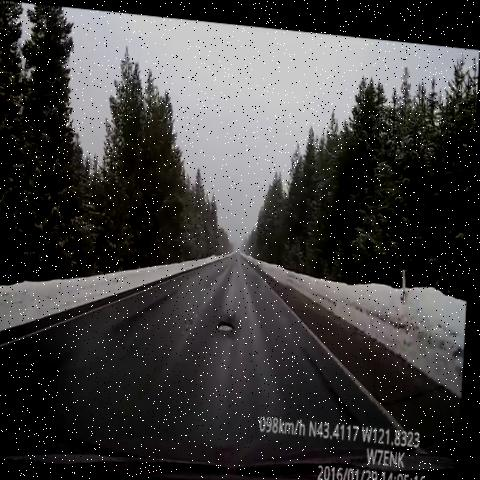pothole: (180, 296, 210, 343), (214, 310, 247, 333)
